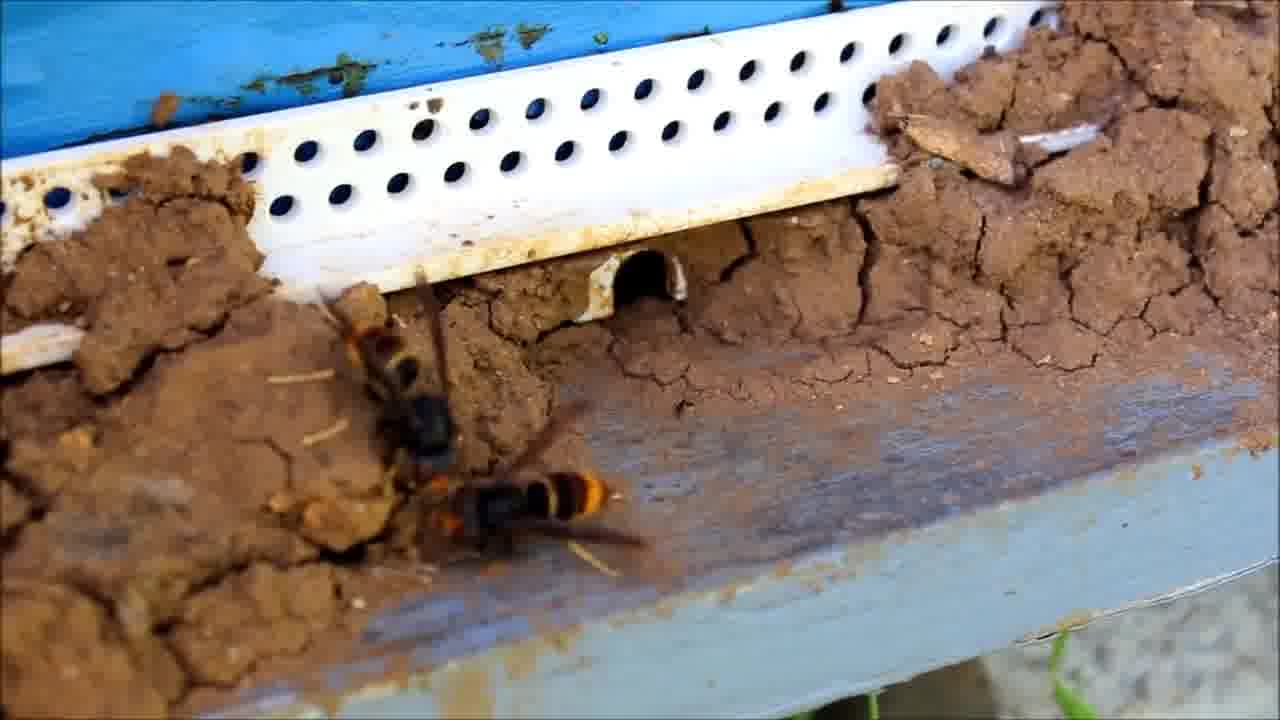hornet: (321, 311, 477, 471), (433, 476, 631, 563)
